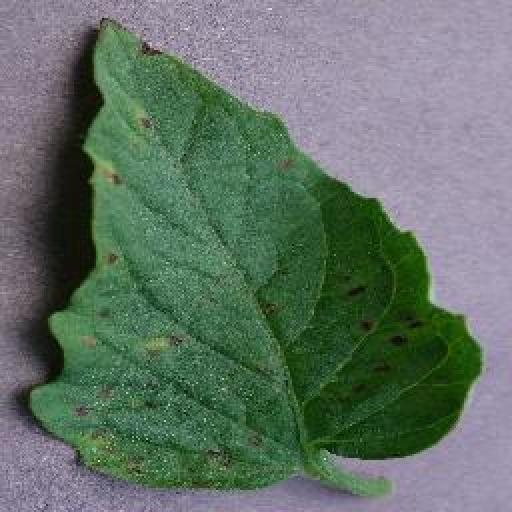Septoria: (28, 16, 483, 493)
